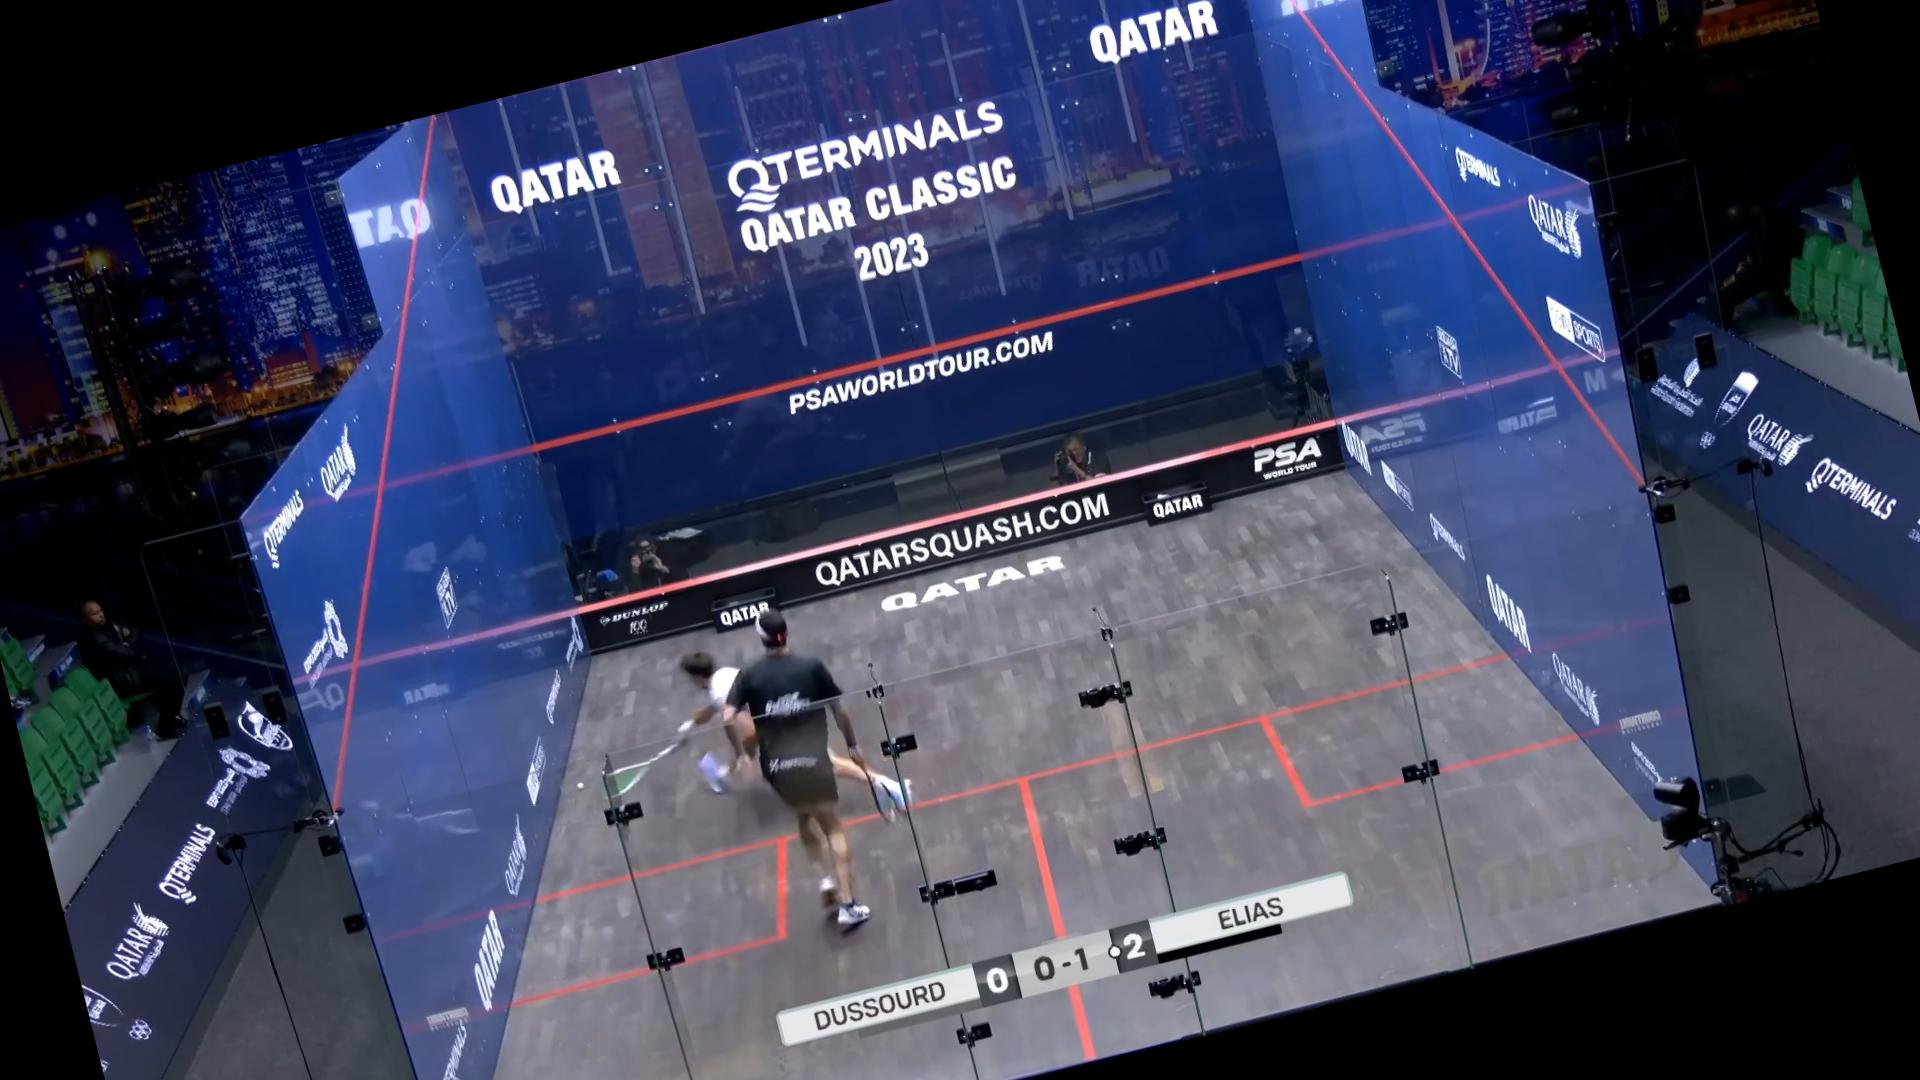Racket: (591, 735, 691, 806)
